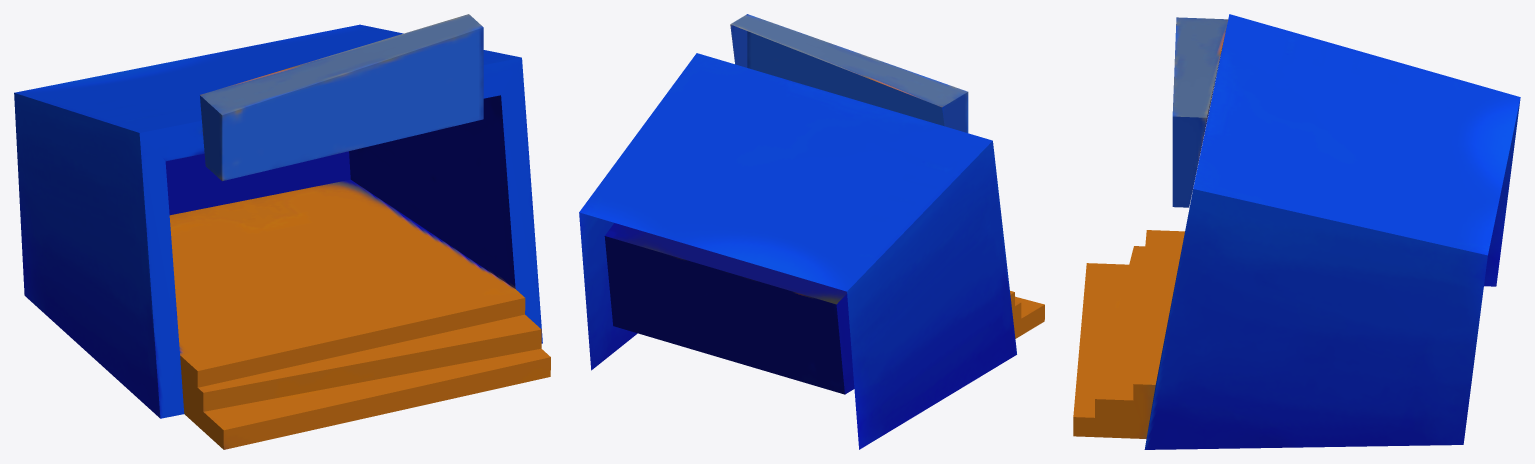
Rendered from pk_model_ditiezhan.FBX.
3 renders of one model, left to right at view 1: azimuth 30°, elevation 25°; view 2: azimuth 150°, elevation 25°; view 3: azimuth 270°, elevation 25°, orthographic. The views are drawn at different scales.
Parts seen in each view (by area): view 1: pk_model_ditiezhan; view 2: pk_model_ditiezhan; view 3: pk_model_ditiezhan.
Boxes of the visible parts, x1,y1,x2,y2 form: pk_model_ditiezhan: (14,14,550,449); pk_model_ditiezhan: (579,14,1044,449); pk_model_ditiezhan: (1073,14,1520,449).
Size of the model in its own units: 498 by 410 by 533.
